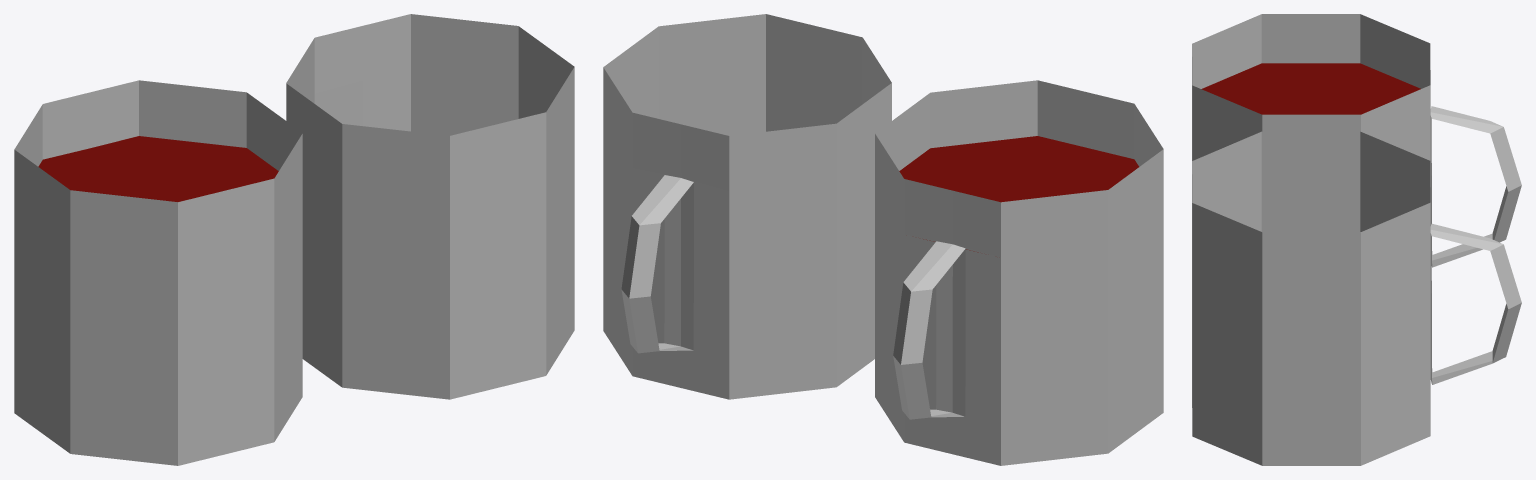
Rendered from mug.obj.
3 renders of one model, left to right at view 1: azimuth 30°, elevation 25°; view 2: azimuth 150°, elevation 25°; view 3: azimuth 270°, elevation 25°, orthographic. The views are drawn at different scales.
Visible parts, largest first — view 1: Cylinder, Cylinder.001, Cylinder.002; view 2: Cylinder, Cylinder.001, Cylinder.002; view 3: Cylinder, Cylinder.001, Cylinder.002.
Part boxes in pixels (x1,y1,x2,y2): Cylinder: [286, 14, 574, 399]; Cylinder.001: [14, 80, 302, 465]; Cylinder.002: [38, 136, 278, 201]; Cylinder: [603, 14, 891, 399]; Cylinder.001: [875, 80, 1163, 465]; Cylinder.002: [899, 136, 1138, 252]; Cylinder: [1192, 131, 1521, 465]; Cylinder.001: [1192, 14, 1521, 267]; Cylinder.002: [1201, 63, 1420, 114].
Bounding box in the file's own units: 0.2805 × 0.14 × 0.1791.
